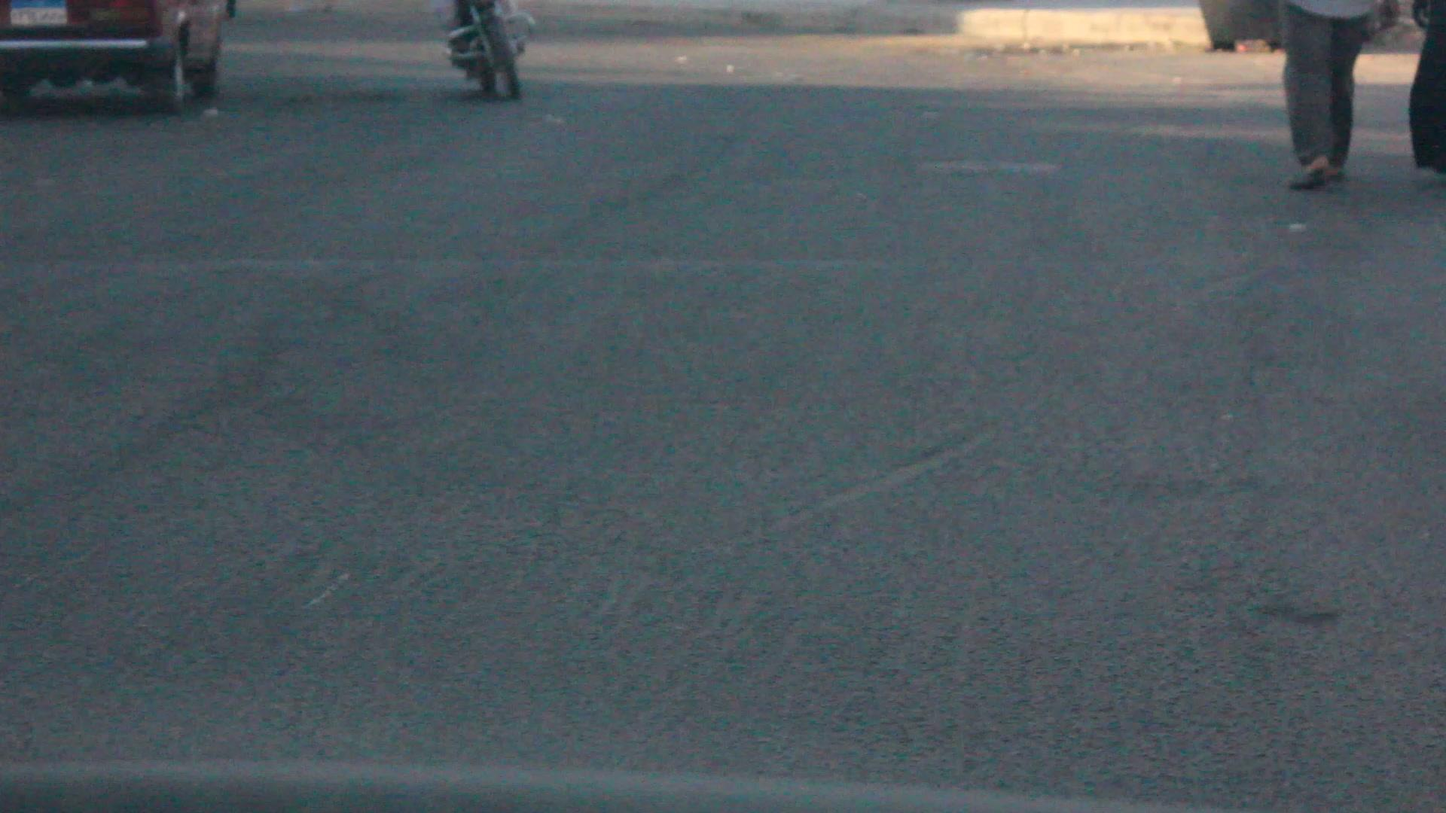Bump: (0, 263, 1446, 425)
